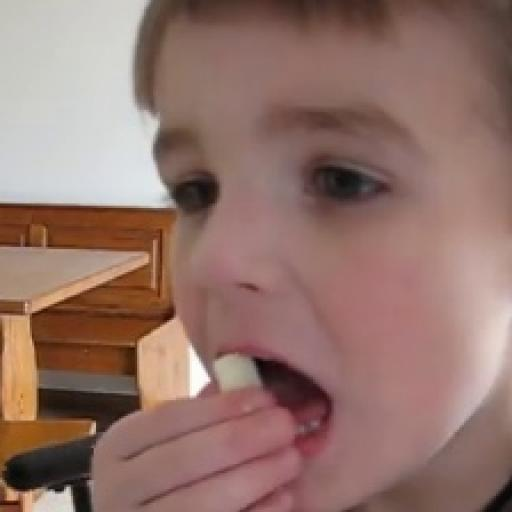Autism: (130, 6, 512, 512)
